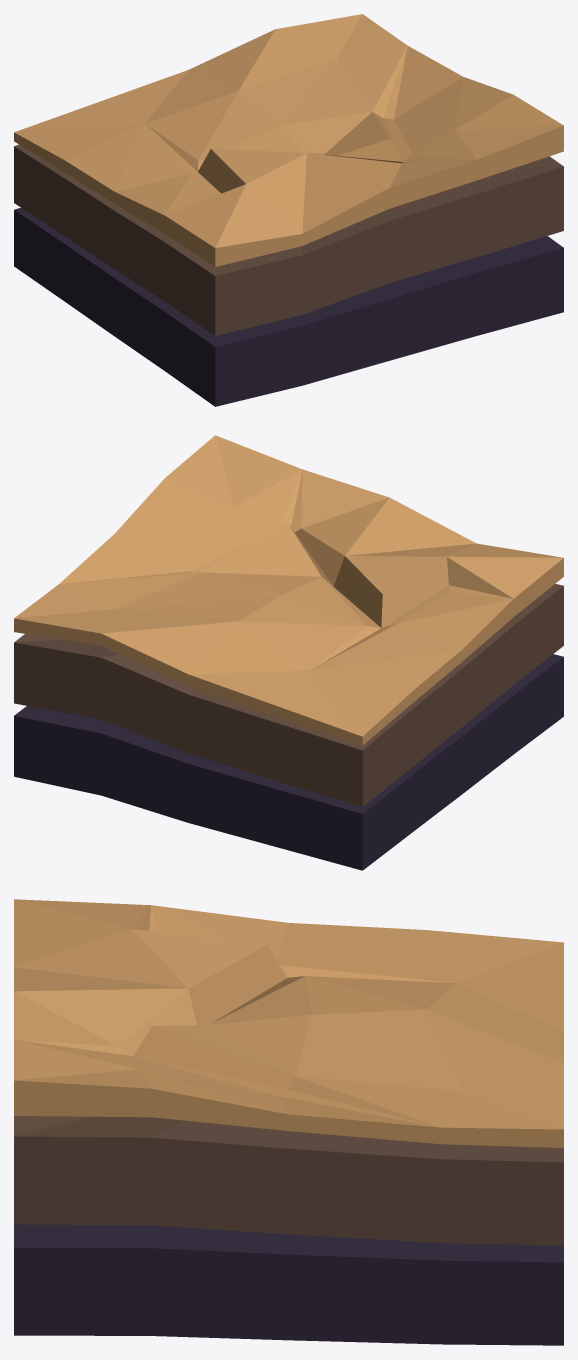
The model's file is ground_01.glb.
3 views of the same model, one above another, from view 1: azimuth 30°, elevation 25°; view 2: azimuth 150°, elevation 25°; view 3: azimuth 270°, elevation 25° (orthographic). The views are drawn at different scales.
Visible parts, largest first — view 1: Plane.007; view 2: Plane.007; view 3: Plane.007.
Part boxes in pixels (x1=…): Plane.007: x1=14, y1=14, x2=563, y2=406; Plane.007: x1=14, y1=435, x2=563, y2=870; Plane.007: x1=14, y1=899, x2=563, y2=1345.
Size of the model in its own units: 30 by 16.7 by 30.
1 material, 1 textured.
